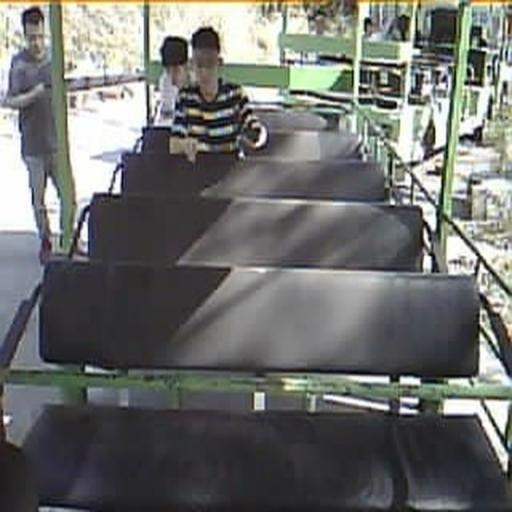persona: (169, 26, 269, 159), (153, 35, 190, 124)
